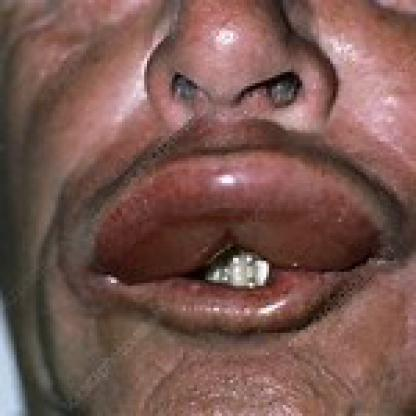Wasp: (83, 133, 383, 275)
